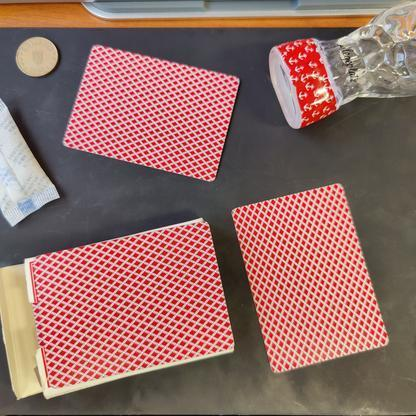card: (22, 217, 238, 395), (236, 176, 391, 378), (59, 33, 252, 186)
